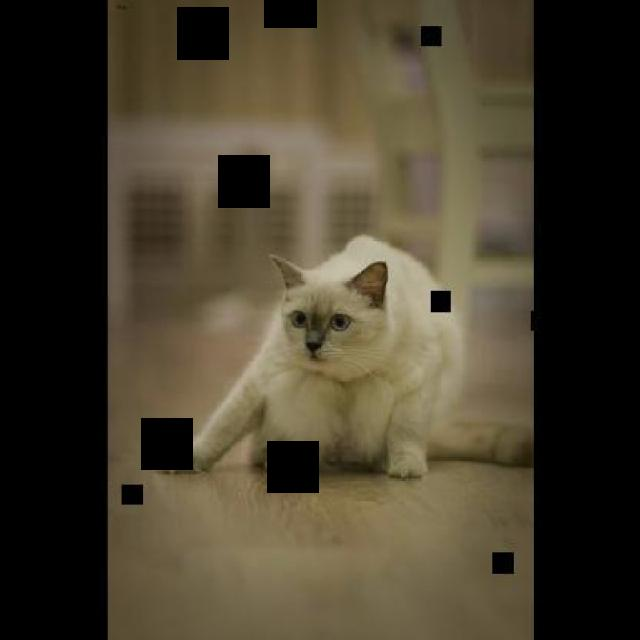unauthorized: (151, 232, 531, 478)
